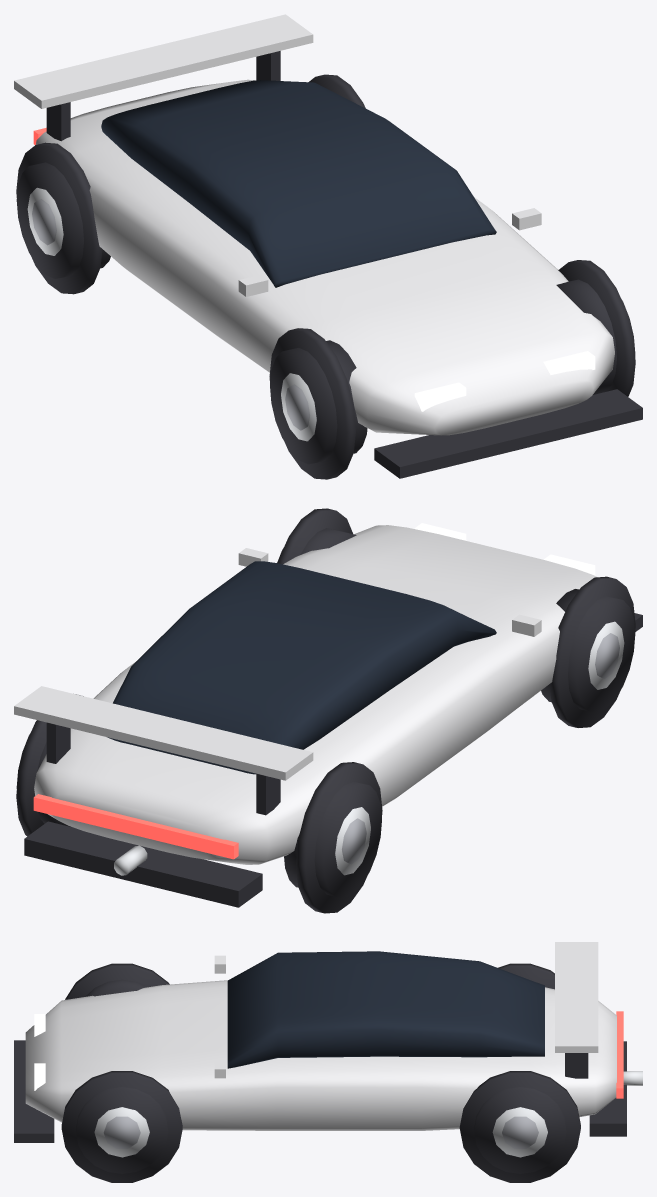
Rendered from car-kaido.glb.
3 renders of one model, top to bottom at view 1: azimuth 30°, elevation 25°; view 2: azimuth 150°, elevation 25°; view 3: azimuth 270°, elevation 25°, orthographic. The views are drawn at different scales.
Parts seen in each view (by area): view 1: body, wheel-front-left, wheel-back-left, wheel-front-right; view 2: body, wheel-back-left, wheel-front-left, wheel-front-right; view 3: body, wheel-back-right, wheel-front-right, wheel-front-left.
Part boxes in pixels (x1,y1,x2,y2): body: (14,14,642,479); wheel-front-left: (270,340,367,464); wheel-back-left: (16,162,110,278); wheel-front-right: (556,279,635,394); body: (14,508,642,913); wheel-back-left: (284,781,381,898); wheel-front-left: (541,589,635,712); wheel-front-right: (277,528,356,563); body: (14,942,642,1182); wheel-back-right: (474,1087,566,1173); wheel-front-right: (76,1087,168,1173); wheel-front-left: (85,979,147,996).
Bounding box in the file's own units: 1.96 × 1.09 × 4.36.
